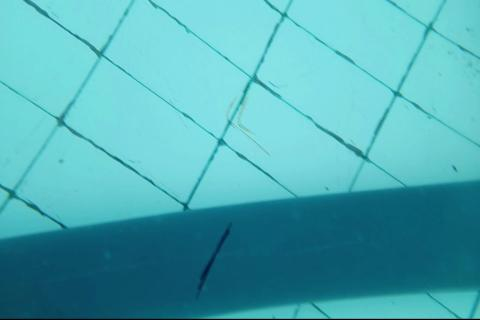keretakan: (195, 221, 233, 299)
